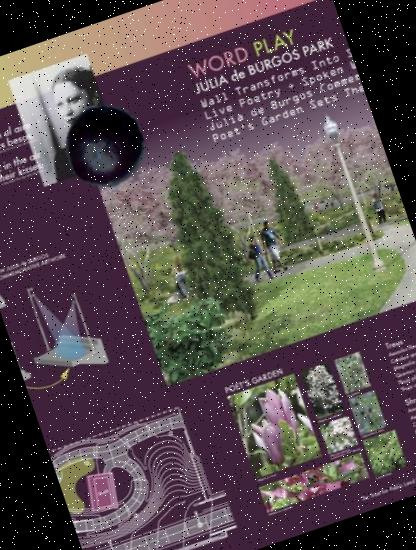Plum: (52, 92, 158, 199)
